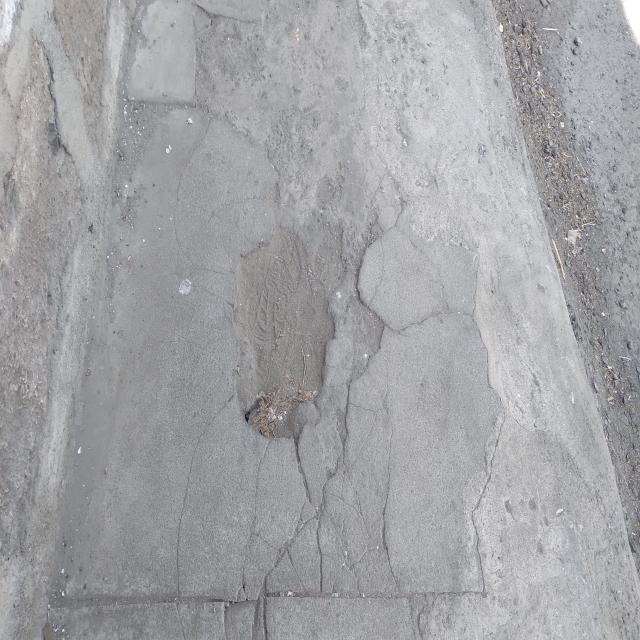hole: (236, 229, 337, 442)
